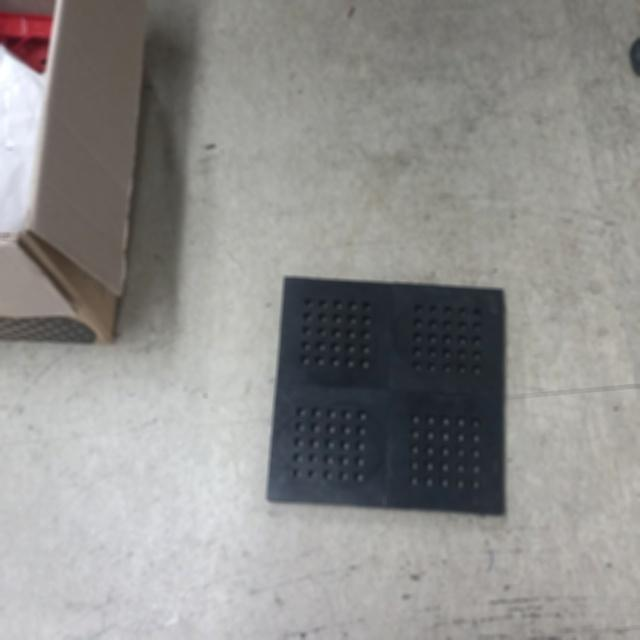pallet: (260, 270, 514, 519)
